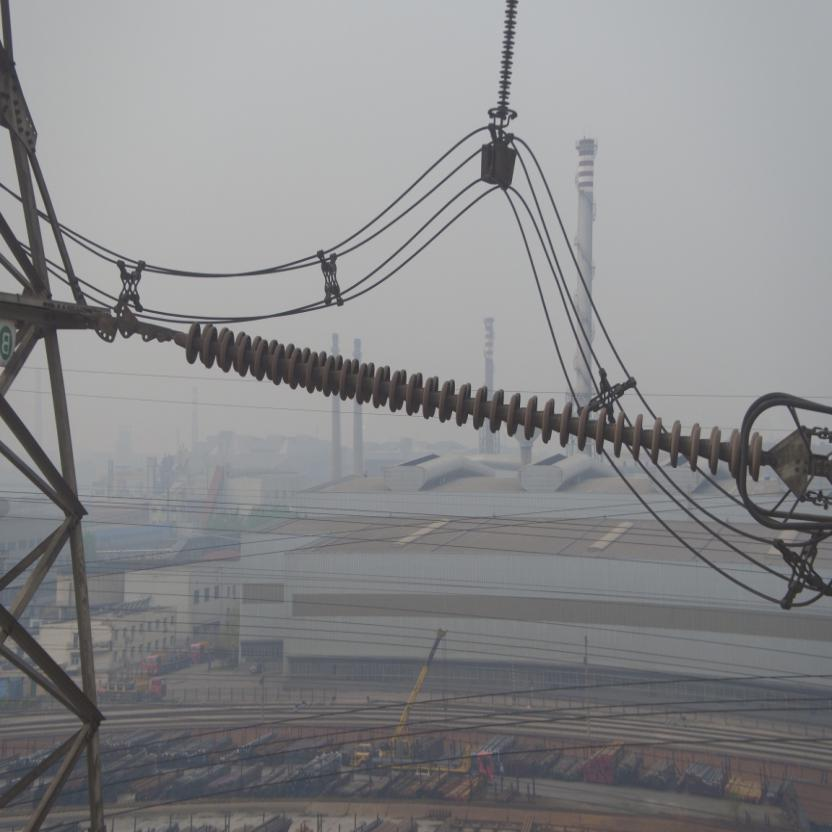insulator: (158, 317, 790, 486)
